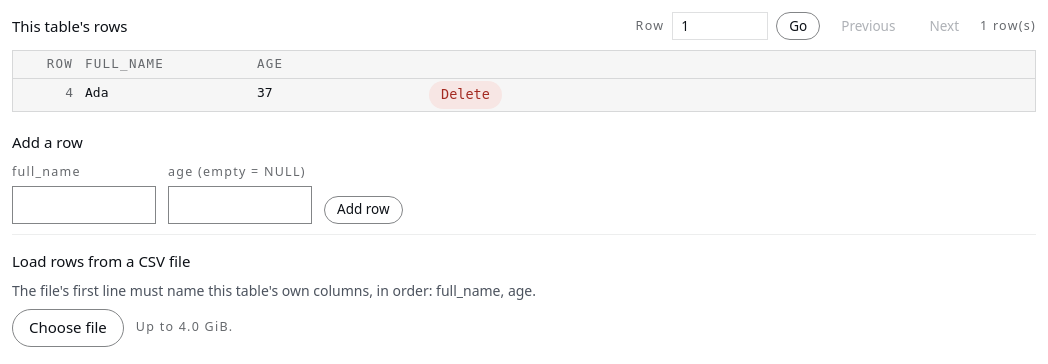
Test: the table builder's own data panel › deletes a row after confirming, and reloads the page it was on
The image size is (1048, 364).
Expected: the text "Ada" is shown, left=85, top=85, right=108, bottom=100
Click the button "Delete" at (465, 95), box left=429, top=81, right=502, bottom=109
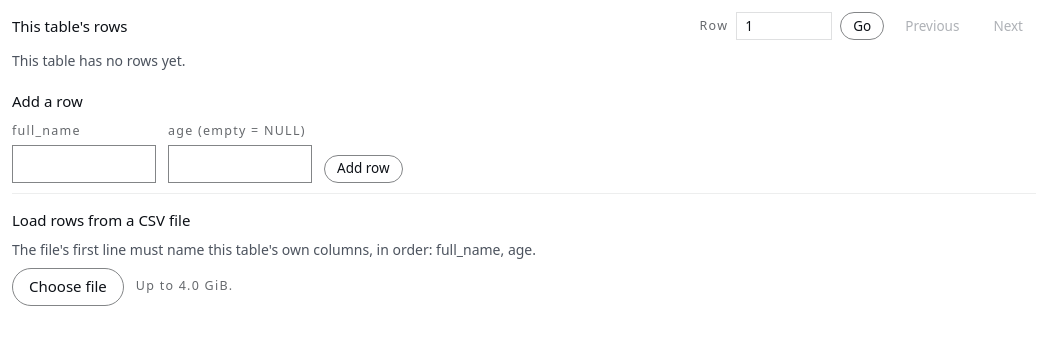
Expected: the text "This table has no rows yet." is shown, left=12, top=51, right=186, bottom=70
